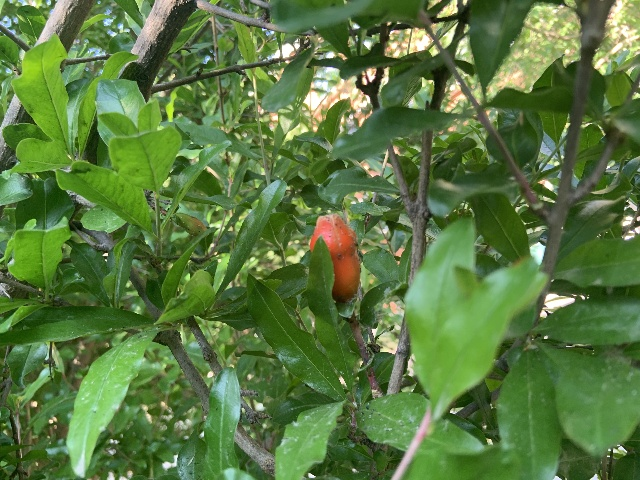bud: (310, 214, 360, 302)
